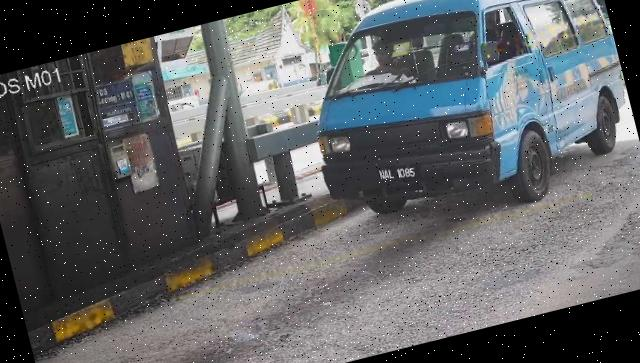License_Plate: (375, 159, 424, 192)
van: (286, 1, 640, 250)
